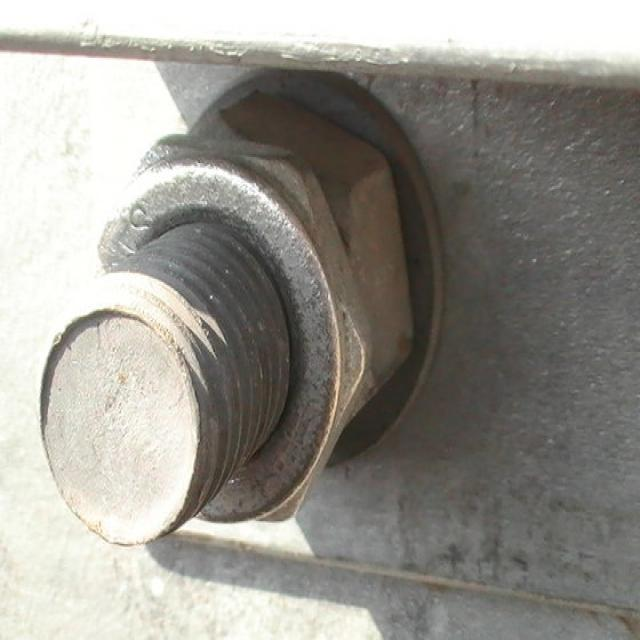bolt nut: (66, 133, 376, 527)
